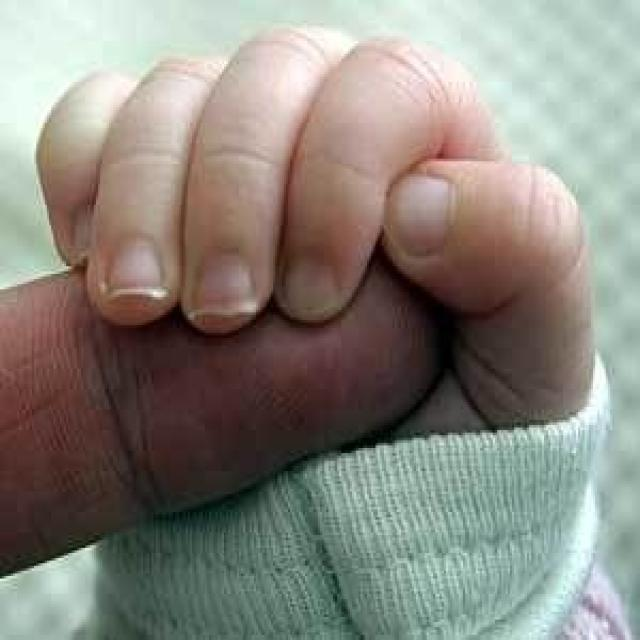Fingernail: (388, 177, 454, 256), (194, 254, 257, 316), (280, 254, 342, 313), (107, 237, 164, 293)
